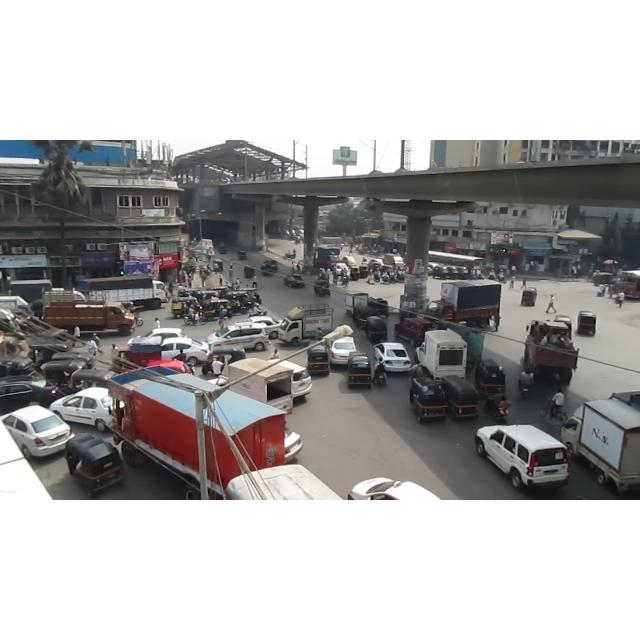auto: (65, 433, 129, 496), (408, 375, 449, 428), (445, 373, 483, 423), (476, 362, 507, 402), (346, 355, 378, 393), (309, 344, 333, 379), (578, 312, 602, 340), (520, 286, 538, 318)
car: (475, 424, 569, 488), (0, 405, 74, 459), (49, 388, 113, 432), (0, 375, 64, 413), (347, 477, 441, 499), (206, 322, 270, 352), (268, 359, 312, 399), (161, 335, 211, 363), (374, 342, 412, 372), (127, 327, 185, 345), (246, 316, 282, 340), (329, 337, 357, 365), (284, 428, 302, 464), (283, 274, 305, 288), (334, 262, 350, 276)
truck: (110, 368, 287, 484), (560, 398, 640, 492), (0, 424, 52, 500), (424, 280, 502, 328), (523, 320, 579, 384), (228, 357, 292, 413), (41, 300, 135, 336), (76, 275, 168, 309), (416, 330, 468, 382), (278, 305, 334, 347), (395, 317, 439, 347), (38, 290, 98, 308), (8, 279, 52, 303), (313, 245, 341, 269), (344, 292, 368, 317), (610, 391, 640, 411), (0, 295, 30, 313), (383, 253, 405, 267)
